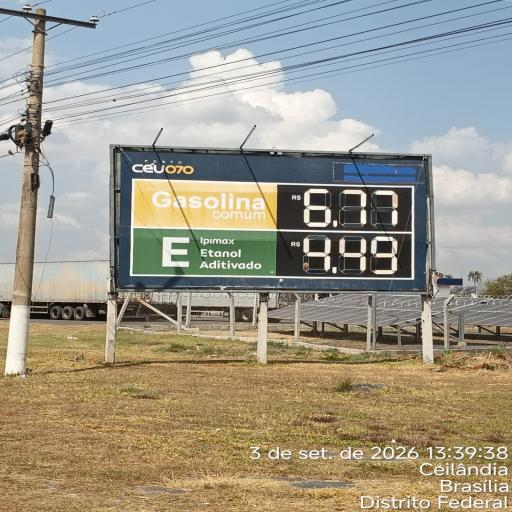ETANOL: (135, 228, 277, 276)
GASOLINA C: (132, 180, 278, 227)
placa: (114, 148, 430, 292)
preco: (302, 185, 412, 230), (302, 231, 411, 276)
